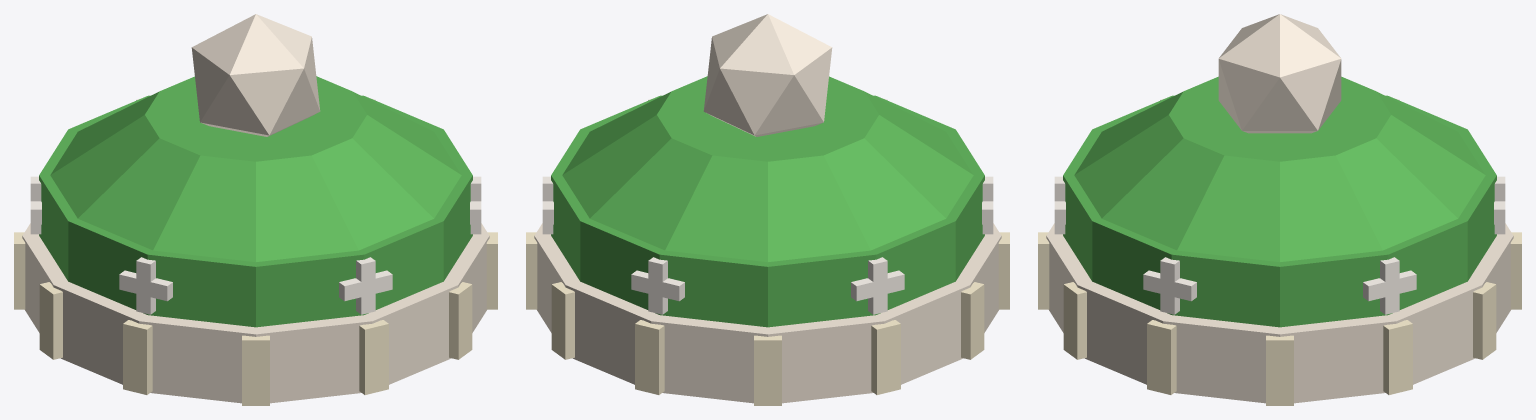
The model's file is CatCafe_Accessory_KnitBeanie.glb.
3 views of the same model, side by side, from view 1: azimuth 30°, elevation 25°; view 2: azimuth 150°, elevation 25°; view 3: azimuth 270°, elevation 25° (orthographic).
Visible parts, largest first — view 1: CatCafe_Accessory_KnitBeanie; view 2: CatCafe_Accessory_KnitBeanie; view 3: CatCafe_Accessory_KnitBeanie.
Boxes of the visible parts, box(x1,y1,x2,y2) form: CatCafe_Accessory_KnitBeanie: box(14, 14, 497, 405); CatCafe_Accessory_KnitBeanie: box(526, 14, 1009, 405); CatCafe_Accessory_KnitBeanie: box(1038, 14, 1521, 405).
Size of the model in its own units: 0.87 by 0.58 by 0.87.
1 material, 1 textured.
